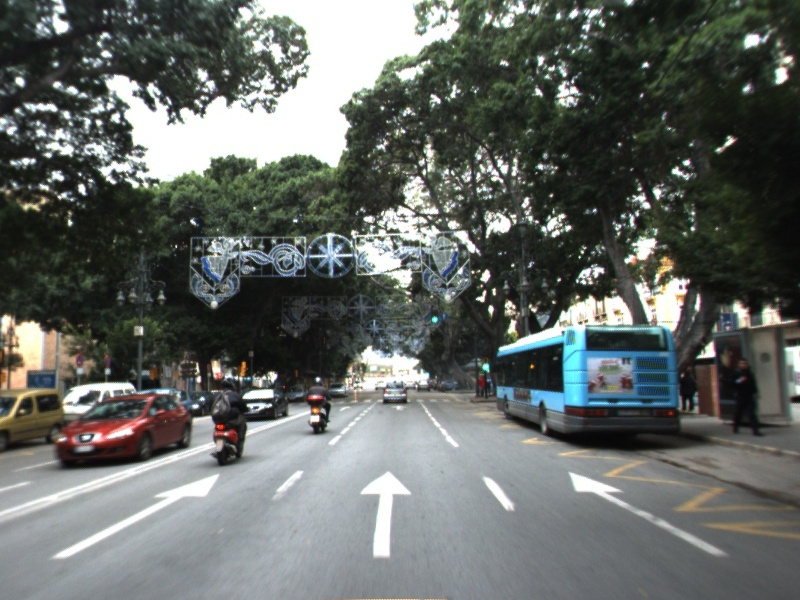STRAIGHT: (48, 470, 223, 561), (566, 468, 733, 560), (356, 468, 416, 561), (390, 403, 409, 412), (337, 404, 353, 413)
